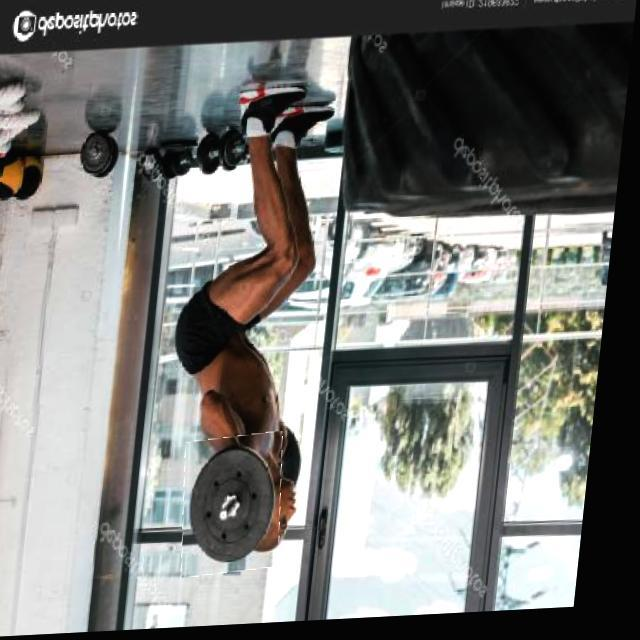barbell: (188, 437, 301, 580)
